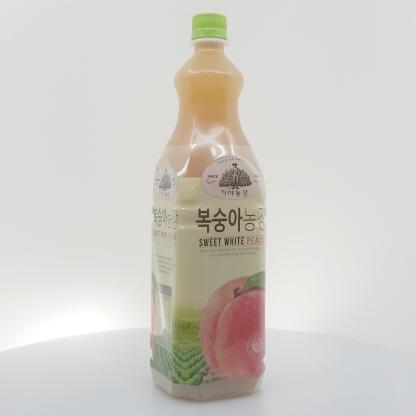-------1-5L: (150, 13, 266, 402)
